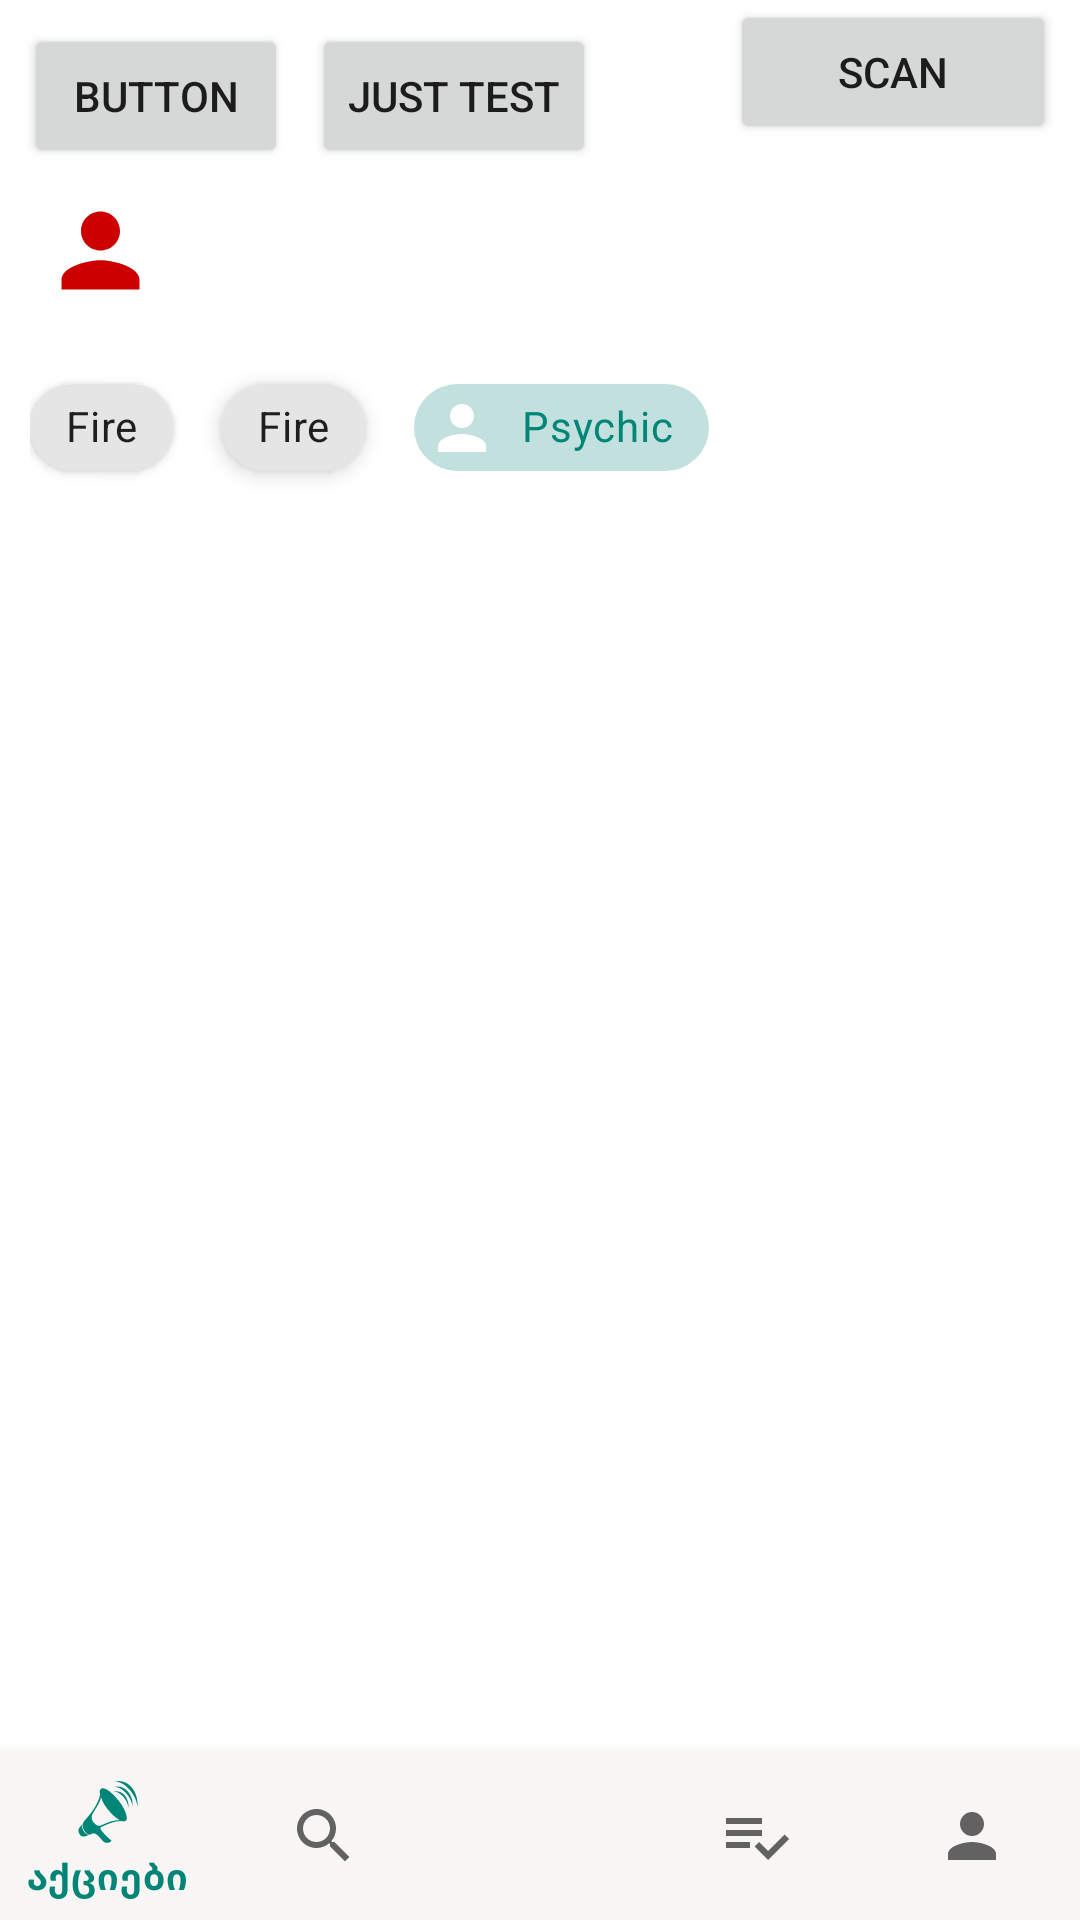

Screen size 1080×1920. Icon name, then its center in pixels as [x,y]:
person: [100,250]
